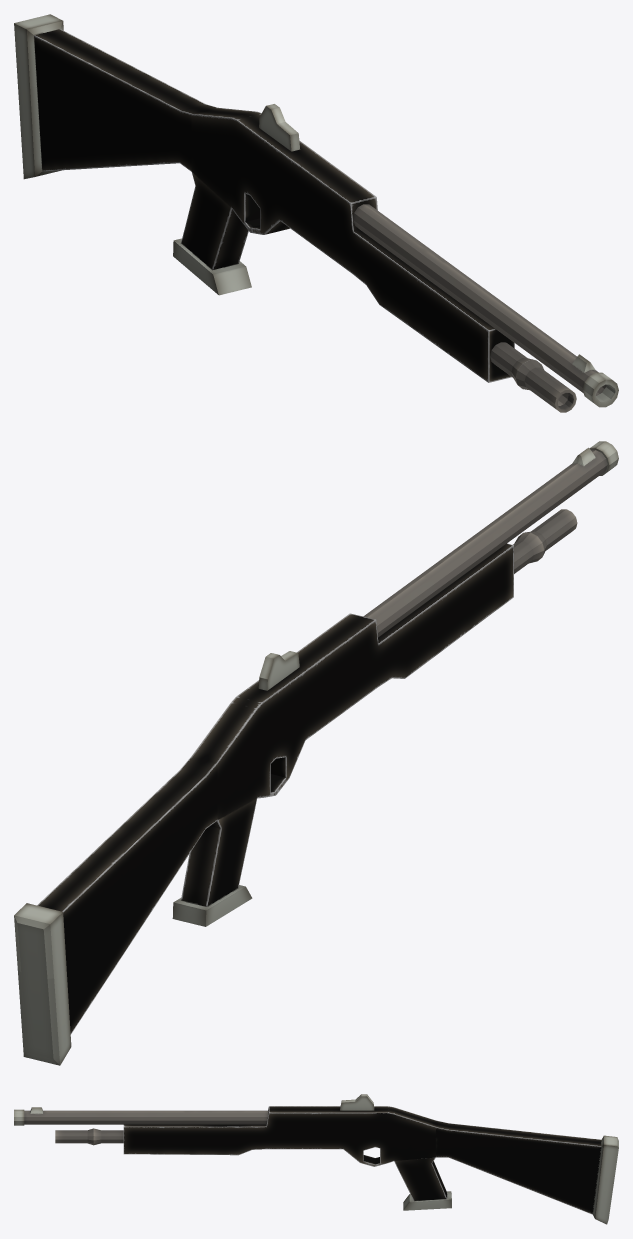
Rendered from shotgun.fbx.
3 renders of one model, top to bottom at view 1: azimuth 30°, elevation 25°; view 2: azimuth 150°, elevation 25°; view 3: azimuth 270°, elevation 25°, orthographic. The views are drawn at different scales.
Visible parts, largest first — view 1: shotgun; view 2: shotgun; view 3: shotgun.
Part boxes in pixels (bbox=[...]): shotgun: bbox=[14, 14, 618, 412]; shotgun: bbox=[14, 441, 618, 1065]; shotgun: bbox=[14, 1094, 618, 1224].
Size of the model in its own units: 3.37 by 20.96 by 92.18.
